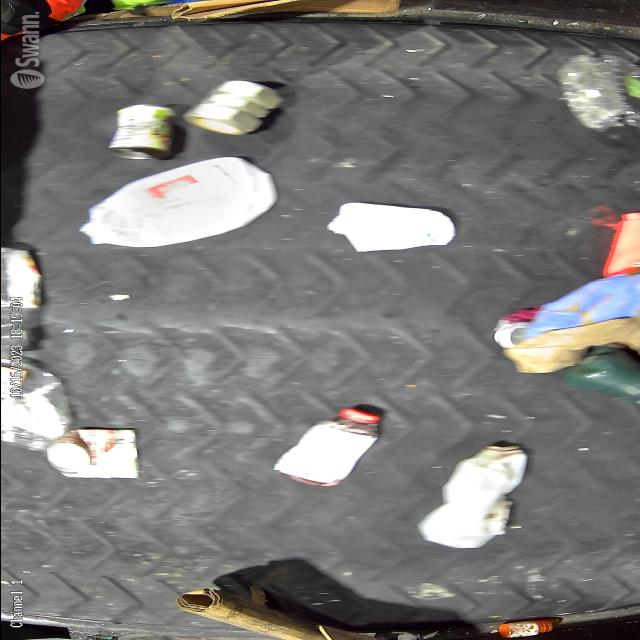can: (180, 78, 287, 137), (42, 427, 142, 481), (105, 101, 177, 161), (0, 245, 44, 311), (492, 320, 530, 348)
milk_jug: (76, 155, 278, 249), (415, 442, 529, 550)
